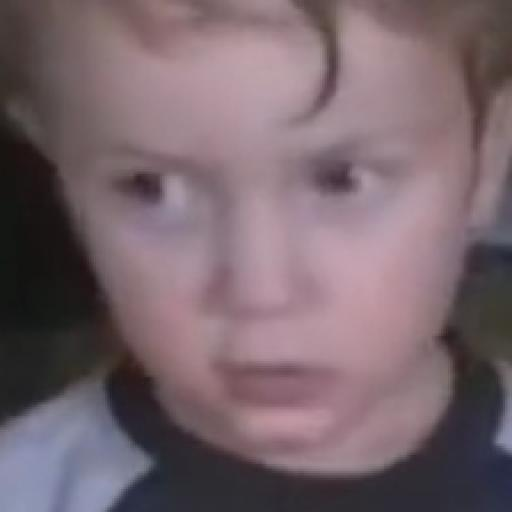Autism: (41, 15, 481, 494)
